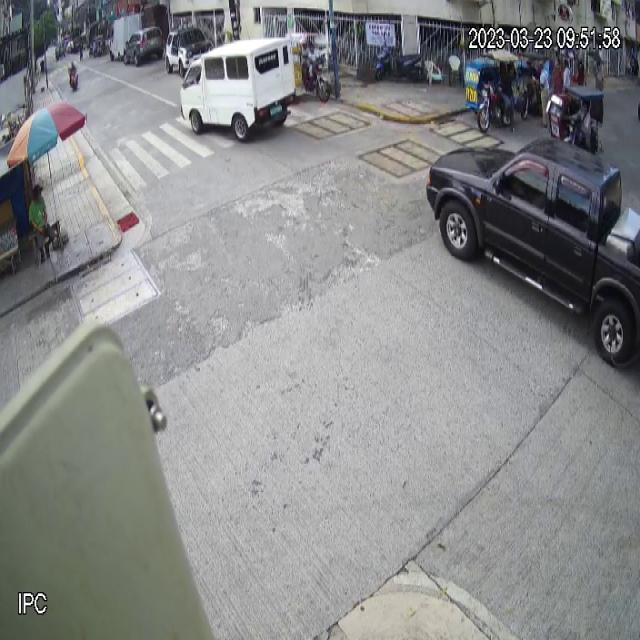Car: (422, 132, 640, 374)
Tricycle: (464, 48, 520, 131)
Van: (178, 38, 297, 145)
